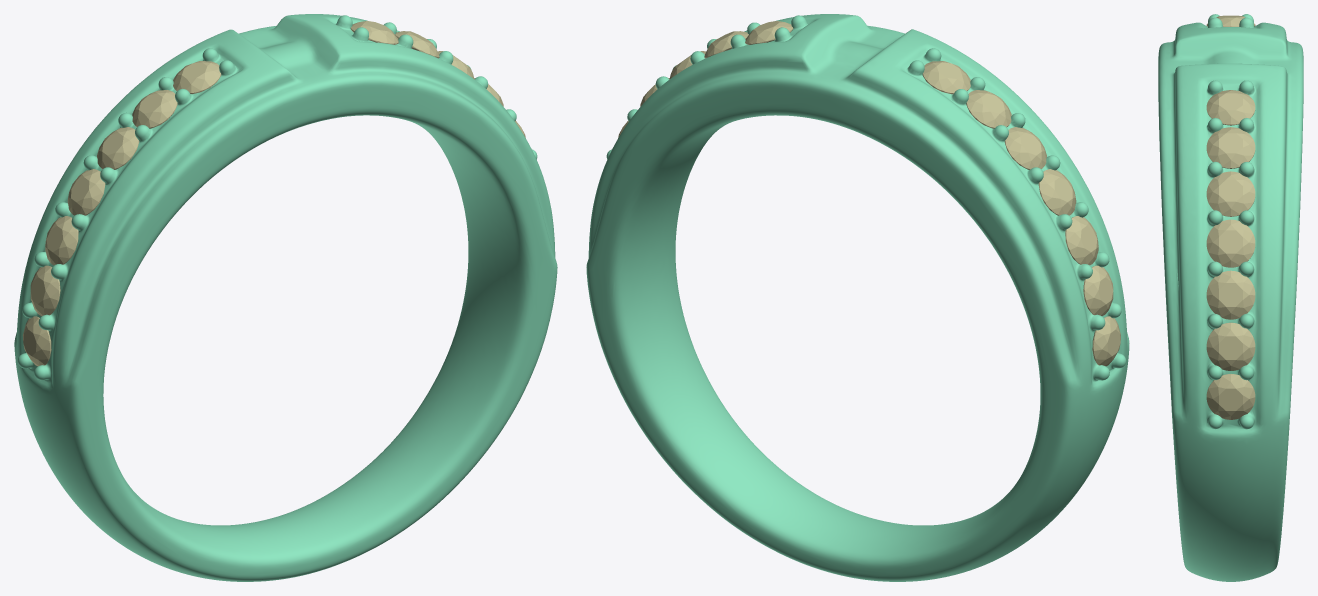
The picture shows the model from 3 angles, left to right: view 1: azimuth 30°, elevation 25°; view 2: azimuth 150°, elevation 25°; view 3: azimuth 270°, elevation 25°; orthographic projection. The views are drawn at different scales.
Parts seen in each view (by area): view 1: Metal02, Diamond_Gem.007, Diamond_Gem.008, Diamond_Gem.009, Diamond_Gem.011, Diamond_Gem.010, Diamond_Gem.012, Diamond_Gem.013; view 2: Metal02, Diamond_Gem.007, Diamond_Gem.008, Diamond_Gem.009, Diamond_Gem.011, Diamond_Gem.010, Diamond_Gem.012, Diamond_Gem.013; view 3: Metal02, Diamond_Gem.002, Diamond_Gem.001, Diamond_Gem.006, Diamond_Gem, Diamond_Gem.005, Diamond_Gem.004, Diamond_Gem.003, Diamond_Gem.010.
Boxes of the visible parts, x1=… form: Metal02: x1=14, y1=14, x2=557, y2=581; Diamond_Gem.007: x1=67, y1=169, x2=105, y2=215; Diamond_Gem.008: x1=97, y1=127, x2=139, y2=169; Diamond_Gem.009: x1=132, y1=90, x2=177, y2=128; Diamond_Gem.011: x1=45, y1=216, x2=78, y2=265; Diamond_Gem.010: x1=173, y1=61, x2=221, y2=94; Diamond_Gem.012: x1=30, y1=265, x2=60, y2=315; Diamond_Gem.013: x1=22, y1=316, x2=51, y2=366; Metal02: x1=586, y1=14, x2=1129, y2=581; Diamond_Gem.007: x1=1038, y1=169, x2=1076, y2=215; Diamond_Gem.008: x1=1004, y1=127, x2=1046, y2=169; Diamond_Gem.009: x1=966, y1=90, x2=1011, y2=128; Diamond_Gem.011: x1=1065, y1=216, x2=1098, y2=265; Diamond_Gem.010: x1=922, y1=61, x2=970, y2=94; Diamond_Gem.012: x1=1083, y1=265, x2=1113, y2=315; Diamond_Gem.013: x1=1092, y1=316, x2=1120, y2=366; Metal02: x1=1158, y1=14, x2=1303, y2=581; Diamond_Gem.002: x1=1206, y1=270, x2=1255, y2=319; Diamond_Gem.001: x1=1206, y1=322, x2=1255, y2=370; Diamond_Gem.006: x1=1206, y1=219, x2=1255, y2=267; Diamond_Gem: x1=1206, y1=374, x2=1255, y2=419; Diamond_Gem.005: x1=1206, y1=171, x2=1255, y2=216; Diamond_Gem.004: x1=1206, y1=127, x2=1255, y2=168; Diamond_Gem.003: x1=1206, y1=90, x2=1255, y2=125; Diamond_Gem.010: x1=1206, y1=15, x2=1255, y2=26.
Size of the model in its own units: 22.2 by 21.78 by 5.66.
